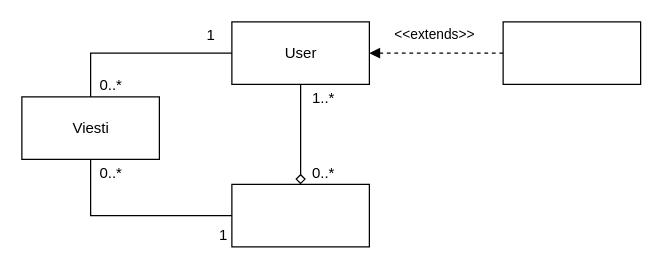
The diagram is 663 pixels wide and 269 high, and some of its shapes have lost their labels. The shapes that lost their labels are listed below. From the top down, each one's centre as x and y in pixels, then its label:
At pixel 571 52: "Admin".
At pixel 300 215: "Kyyti".
